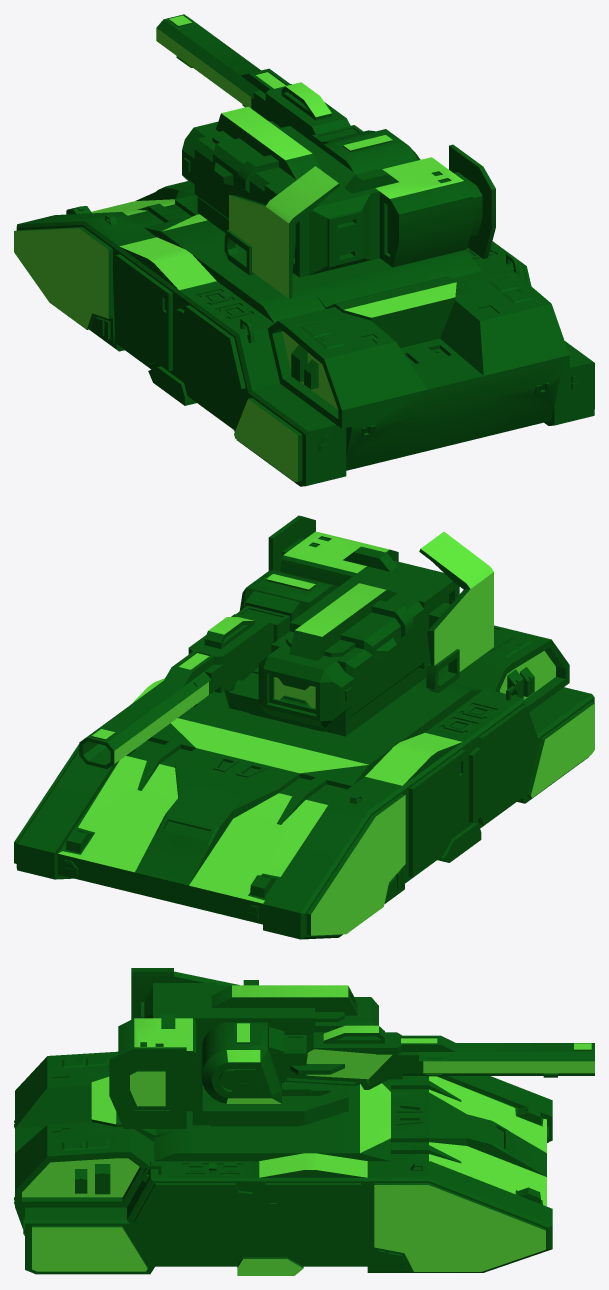
Rendered from player.glb.
3 views of the same model, one above another, from view 1: azimuth 30°, elevation 25°; view 2: azimuth 150°, elevation 25°; view 3: azimuth 270°, elevation 25° (orthographic). The views are drawn at different scales.
Visible parts, largest first — view 1: T_TankLows, T_TanqueTurret, T_TankCanon; view 2: T_TankLows, T_TanqueTurret, T_TankCanon; view 3: T_TankLows, T_TanqueTurret, T_TankCanon.
Boxes of the visible parts, x1,y1,x2,y2 form: T_TankLows: (14,181,594,486); T_TanqueTurret: (182,106,495,298); T_TankCanon: (156,14,420,174); T_TankLows: (14,625,594,939); T_TanqueTurret: (224,515,493,736); T_TankCanon: (79,570,338,768); T_TankLows: (14,1051,552,1275); T_TanqueTurret: (109,968,378,1128); T_TankCanon: (201,1022,594,1103).
Bounding box in the file's own units: 1.95 × 1.52 × 3.66.
